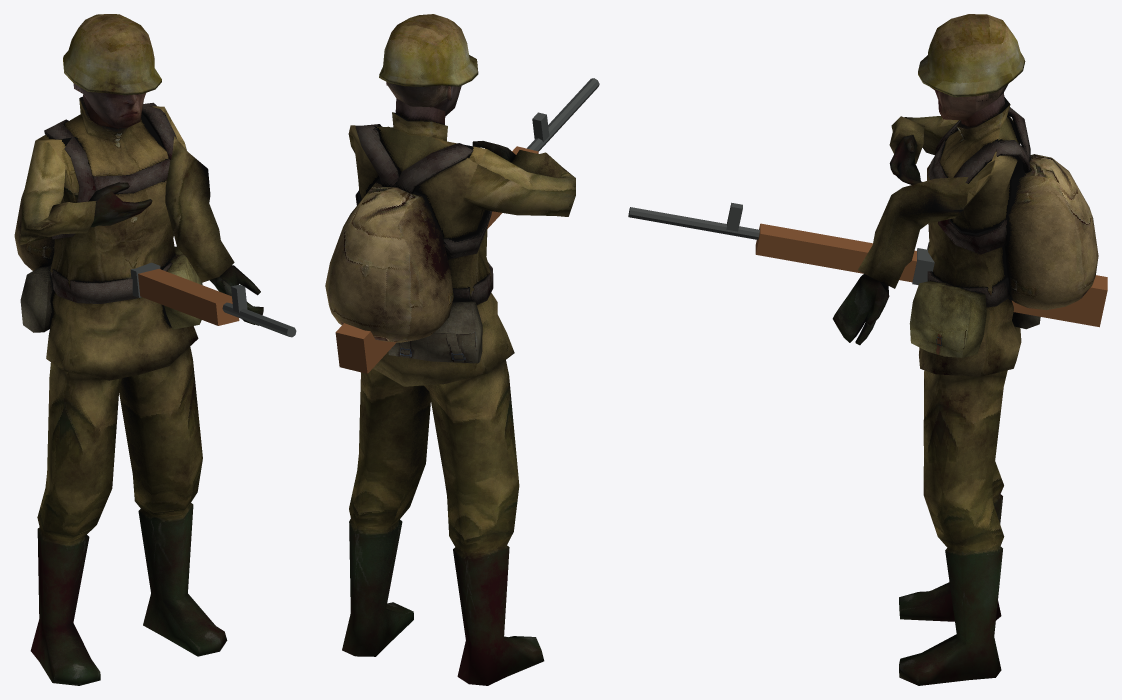
Rendered from soviet_ww2_soldier_idle_01.glb.
3 views of the same model, side by side, from view 1: azimuth 30°, elevation 25°; view 2: azimuth 150°, elevation 25°; view 3: azimuth 270°, elevation 25° (orthographic). The views are drawn at different scales.
Visible parts, largest first — view 1: final_Static, SovietRifle_Generated; view 2: final_Static, SovietRifle_Generated; view 3: final_Static, SovietRifle_Generated.
Boxes of the visible parts, x1=… form: final_Static: x1=14, y1=14, x2=263, y2=685; SovietRifle_Generated: x1=130, y1=262, x2=296, y2=337; final_Static: x1=325, y1=14, x2=575, y2=685; SovietRifle_Generated: x1=335, y1=78, x2=599, y2=373; final_Static: x1=832, y1=14, x2=1098, y2=685; SovietRifle_Generated: x1=628, y1=202, x2=1107, y2=327.
Size of the model in its own units: 0.6331 by 1.75 by 1.22.
Materials: 3 (1 with a texture image).
